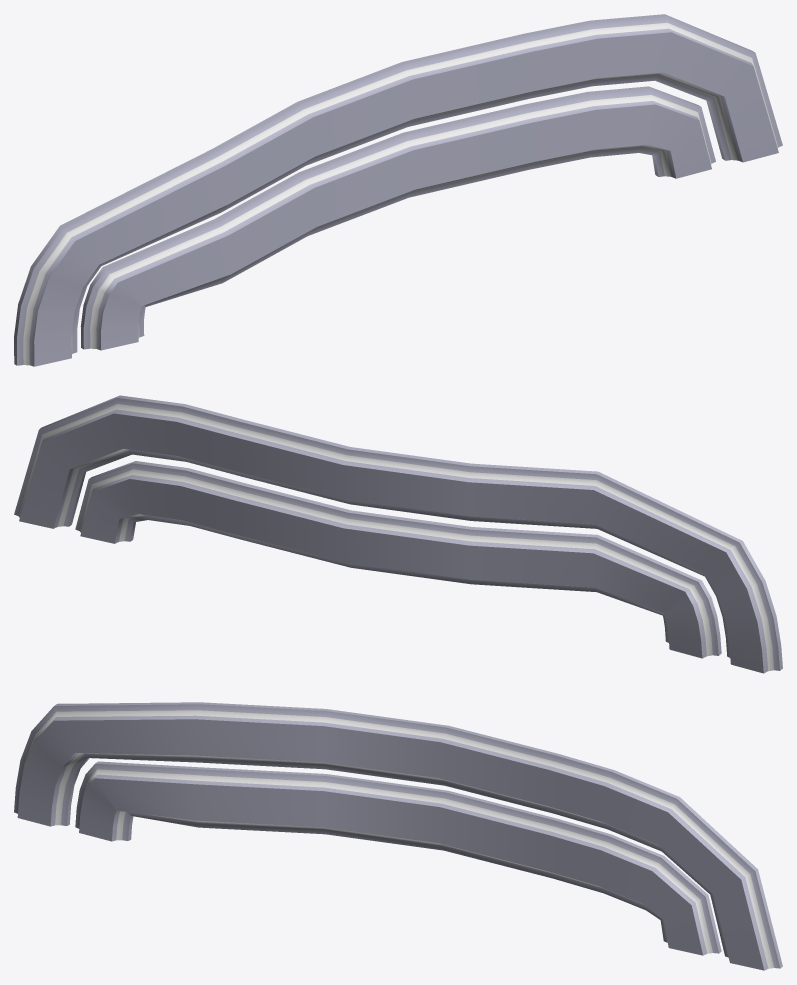
Rendered from Pipe_2.fbx.
3 views of the same model, one above another, from view 1: azimuth 30°, elevation 25°; view 2: azimuth 150°, elevation 25°; view 3: azimuth 330°, elevation 25° (orthographic). The views are drawn at different scales.
Visible parts, largest first — view 1: Pipe_2; view 2: Pipe_2; view 3: Pipe_2.
Part boxes in pixels (left/top/right/bottom): Pipe_2: left=14, top=14, right=782, bottom=366; Pipe_2: left=14, top=395, right=782, bottom=673; Pipe_2: left=14, top=702, right=782, bottom=970.
Bounding box in the file's own units: 13.4 × 2.7 × 1.7.
